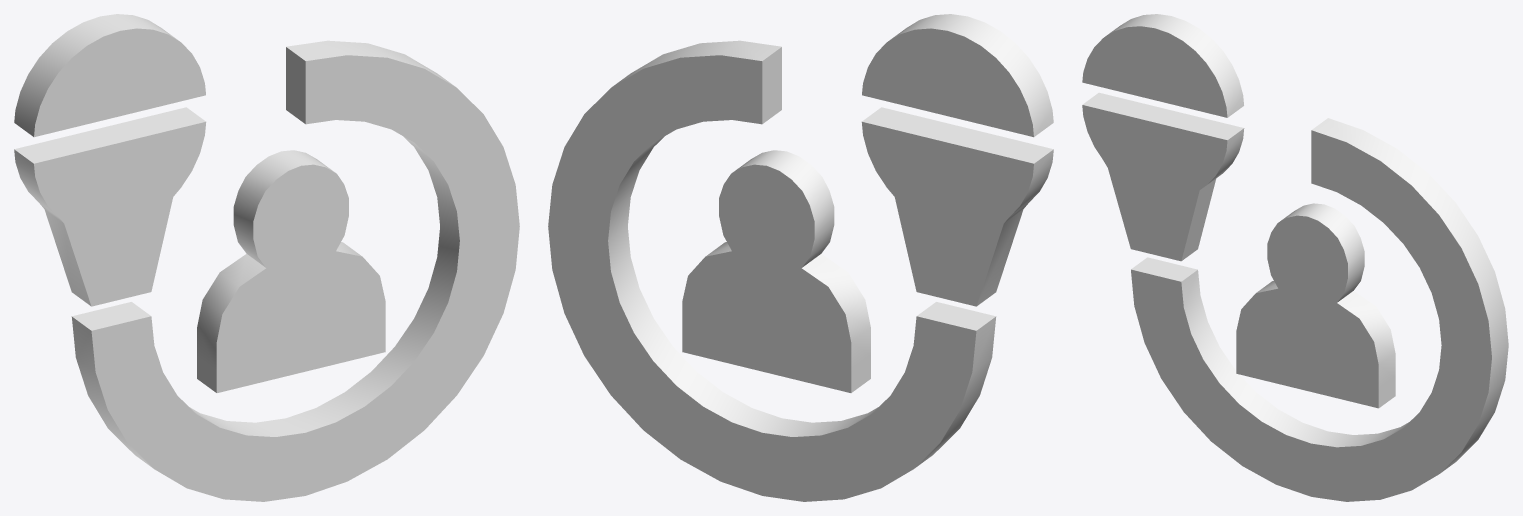
Rendered from profiles.ico.obj.
3 views of the same model, side by side, from view 1: azimuth 30°, elevation 25°; view 2: azimuth 150°, elevation 25°; view 3: azimuth 330°, elevation 25° (orthographic). The views are drawn at different scales.
Size of the model in its own units: 4.68 by 4.7 by 0.3303.
Materials: 1 (1 with a texture image).
